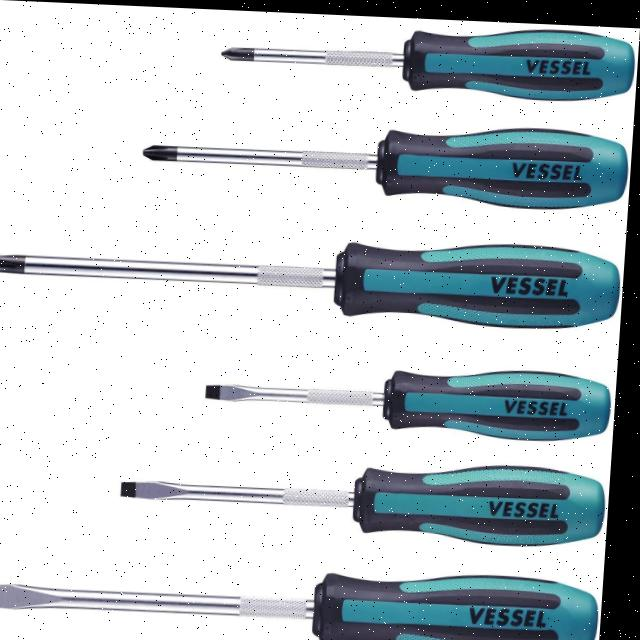Screwdriver: (0, 239, 625, 323), (0, 572, 608, 640), (145, 123, 631, 203), (128, 463, 613, 541), (223, 24, 636, 94), (211, 367, 617, 435)
